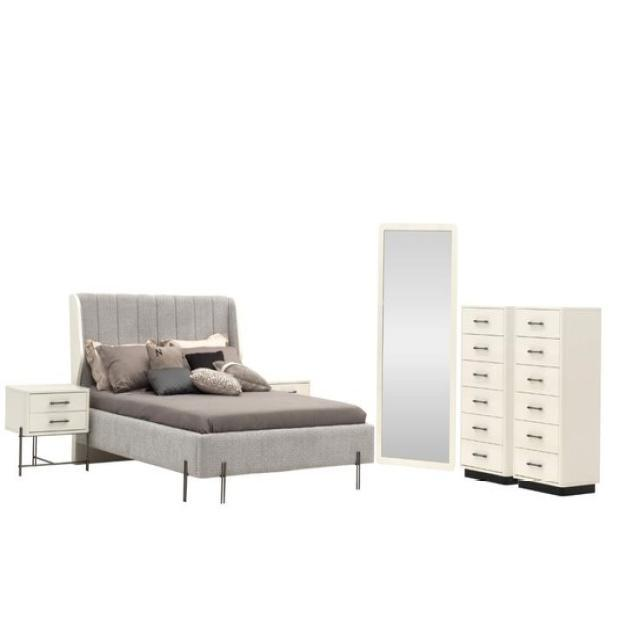obstacle: (68, 291, 375, 503), (462, 306, 598, 490), (5, 382, 90, 476)
